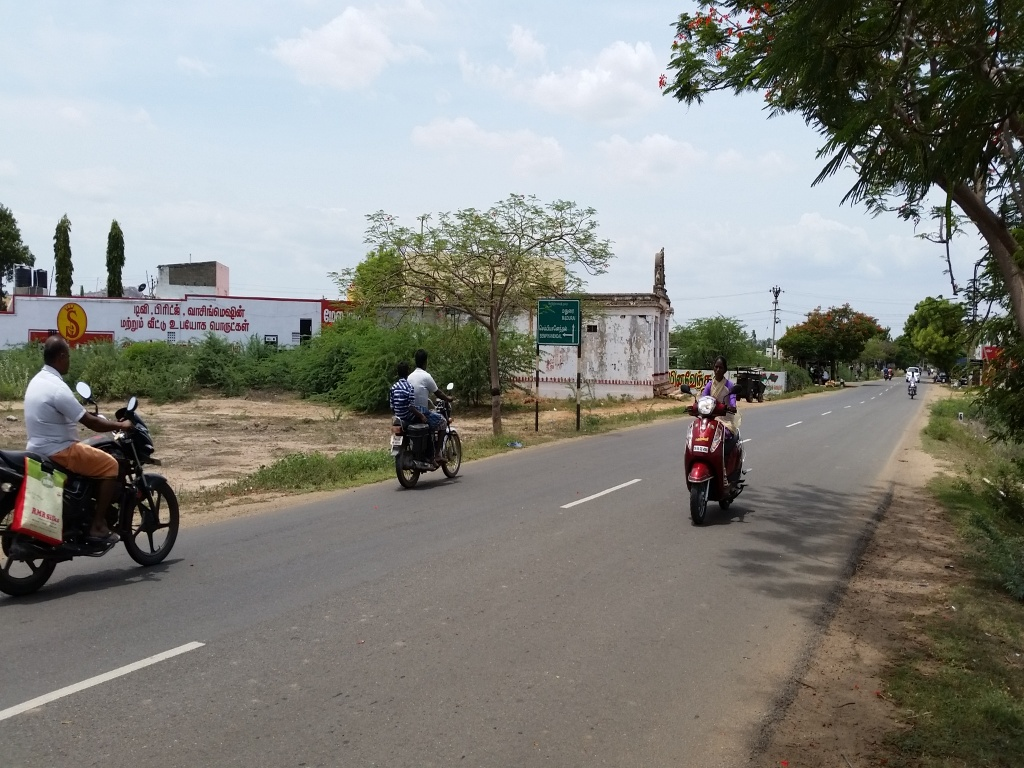biker: (1, 293, 191, 601), (663, 331, 770, 535), (377, 326, 485, 499)
nohelmet: (33, 322, 85, 397), (701, 341, 735, 389), (410, 338, 438, 382), (391, 351, 419, 395)
